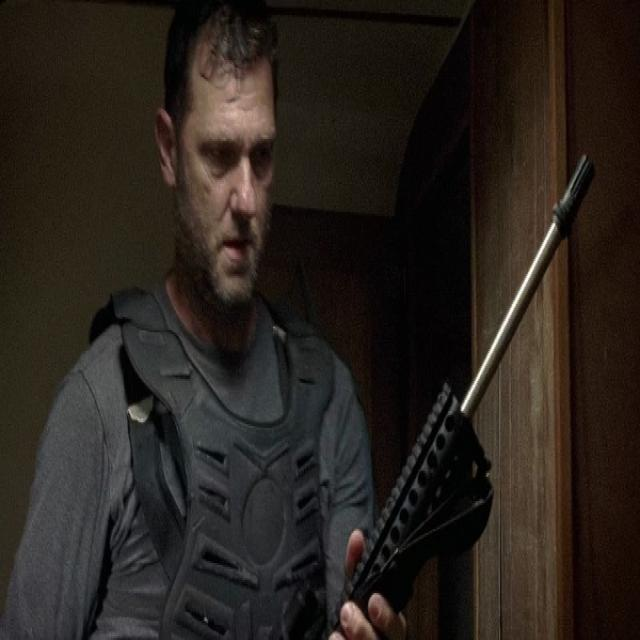rifle: (300, 144, 597, 640)
